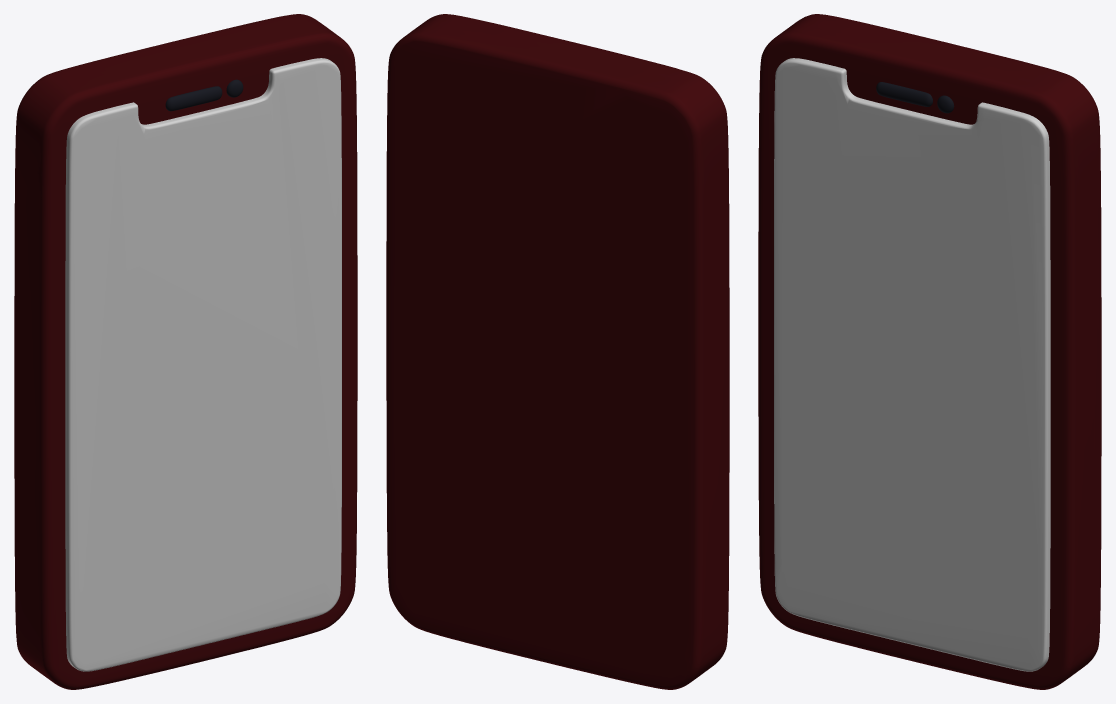
The model's file is mobile.glb.
3 renders of one model, left to right at view 1: azimuth 30°, elevation 25°; view 2: azimuth 150°, elevation 25°; view 3: azimuth 330°, elevation 25°, orthographic.
Parts seen in each view (by area): view 1: Cube.001; view 2: Cube.001; view 3: Cube.001.
Part boxes in pixels (x1,y1,x2,y2): Cube.001: [14, 14, 357, 689]; Cube.001: [386, 14, 729, 689]; Cube.001: [758, 14, 1101, 689].
Size of the model in its own units: 1.07 by 1.94 by 0.2138.
